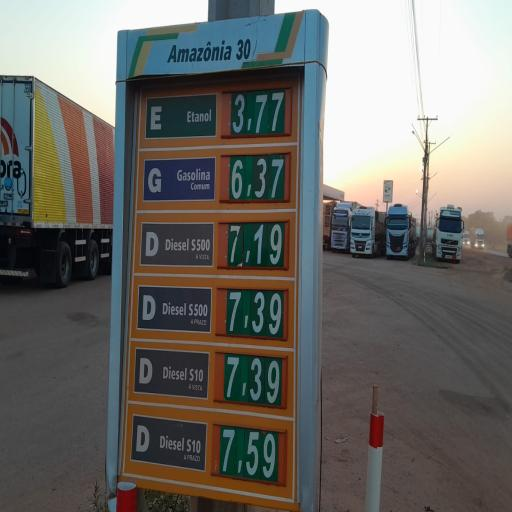ETANOL: (146, 98, 217, 136)
GASOLINA C: (145, 160, 215, 203)
S10: (134, 347, 208, 399)
S500: (138, 218, 214, 270)
placa: (118, 76, 306, 495)
preco: (225, 220, 286, 274), (225, 355, 284, 406), (229, 89, 289, 138), (227, 157, 289, 204)
